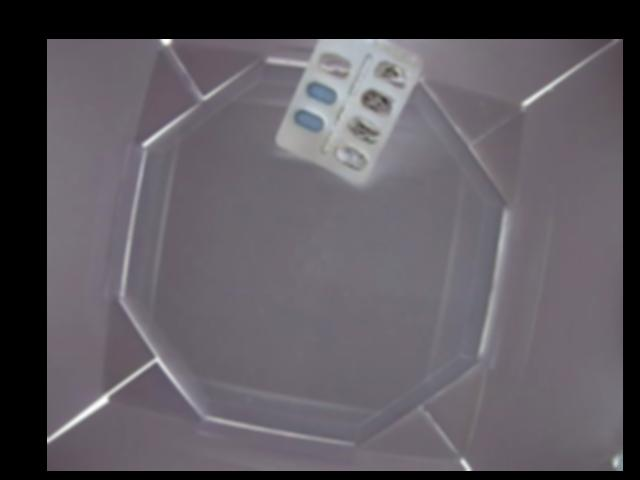Medicine: (272, 39, 431, 186)
